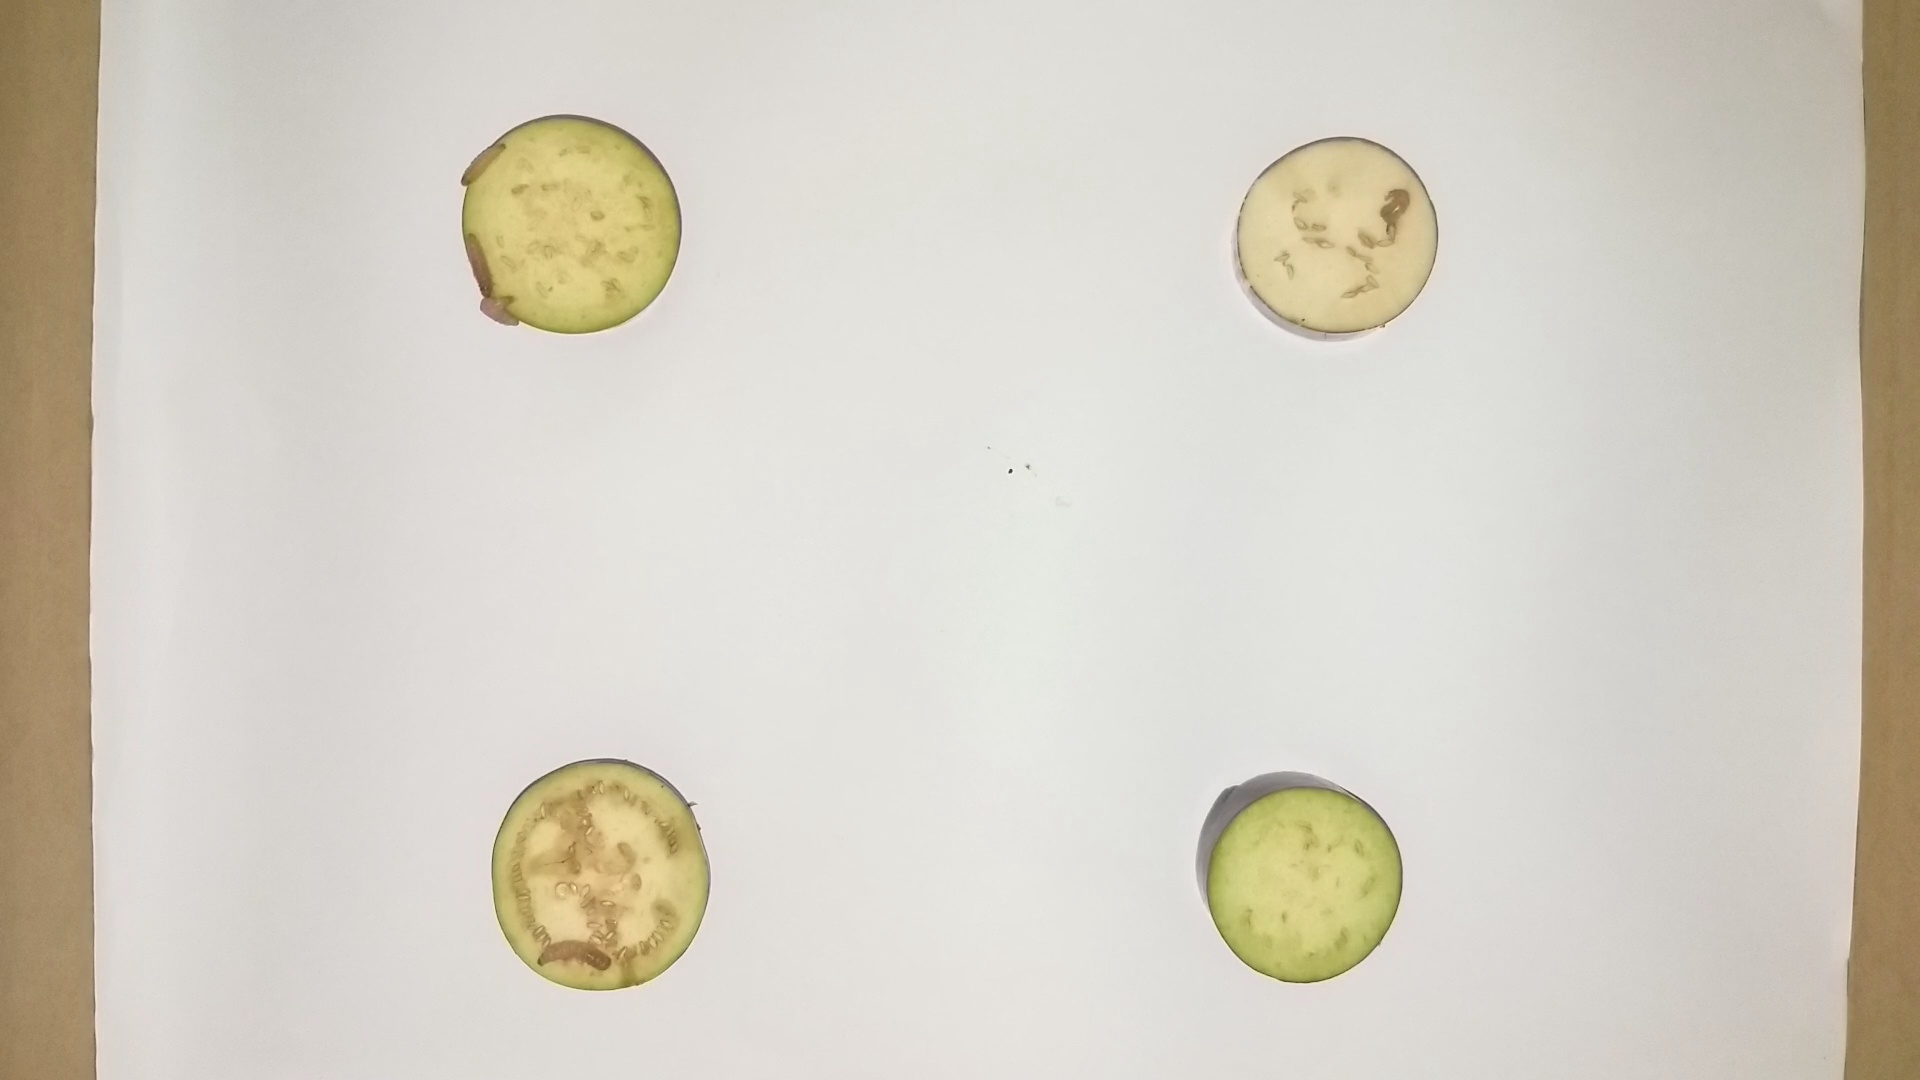efsb: (527, 930, 618, 986), (459, 225, 502, 301), (456, 141, 512, 193), (1375, 181, 1416, 235), (471, 290, 524, 328)
eggplant: (483, 752, 719, 1000), (456, 109, 688, 339), (1183, 764, 1414, 992), (1226, 127, 1447, 352)
